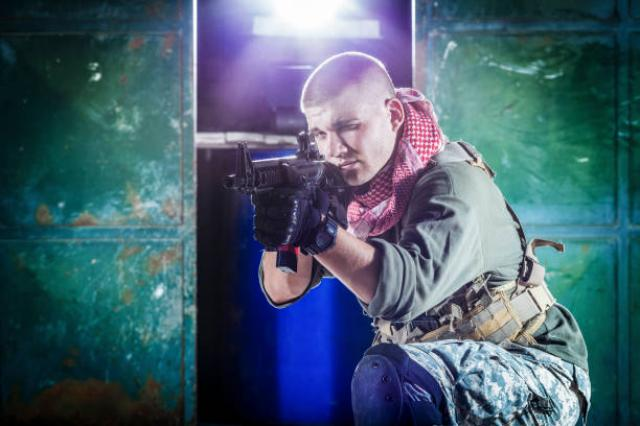other: (266, 58, 548, 424)
